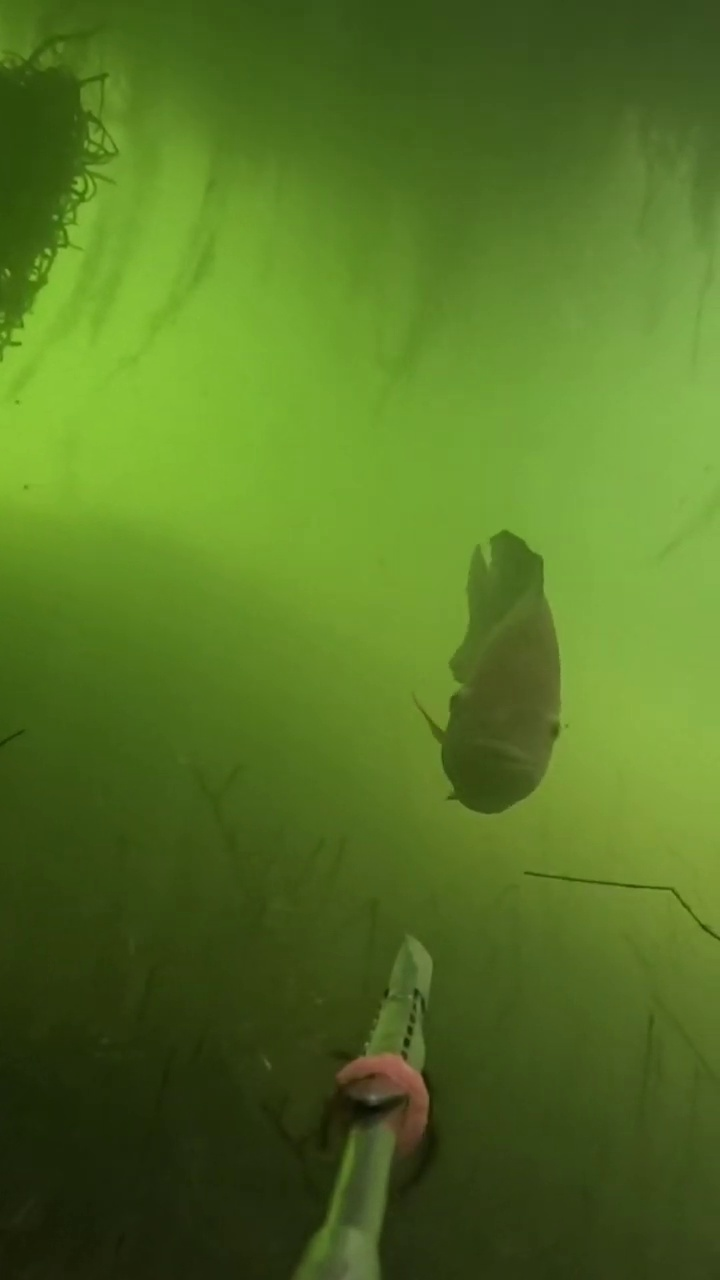Tilapia: (406, 518, 614, 839)
